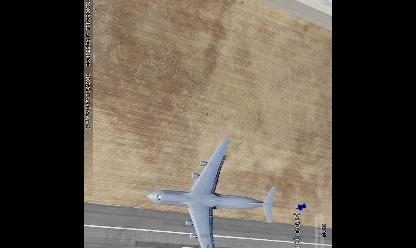C17: (147, 137, 278, 247)
